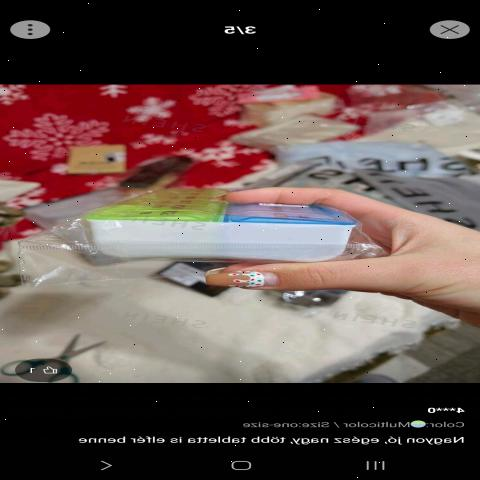PillBox: (55, 170, 369, 267)
